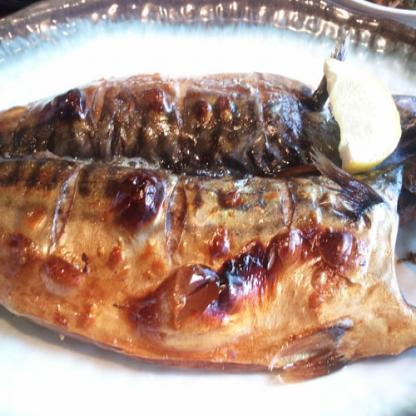Peixe: (0, 53, 416, 367)
